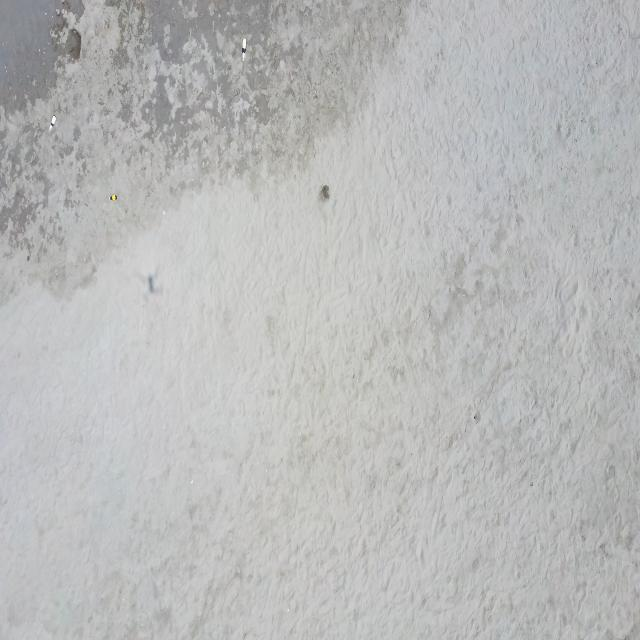glass: (241, 37, 247, 62), (48, 114, 56, 132), (109, 194, 117, 200)
